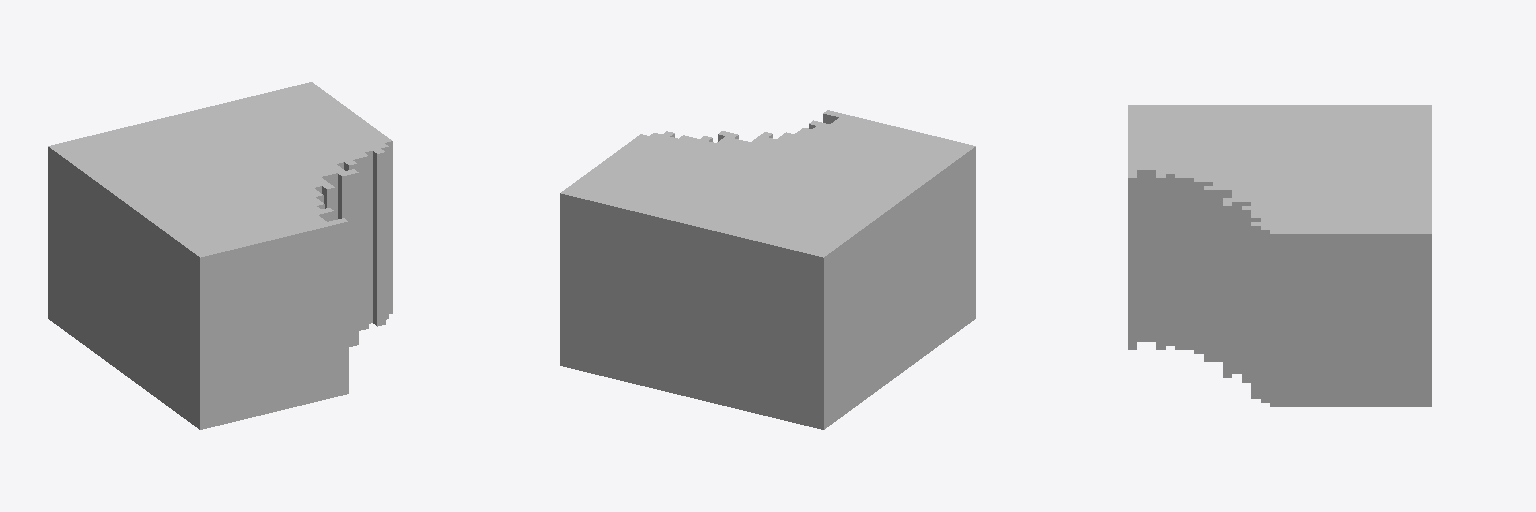
File: pondtile-6.obj
3 renders of one model, left to right at view 1: azimuth 30°, elevation 25°; view 2: azimuth 150°, elevation 25°; view 3: azimuth 270°, elevation 25°, orthographic.
Visible parts, largest first — view 1: pondtile-6; view 2: pondtile-6; view 3: pondtile-6.
Boxes of the visible parts, <box> form: pondtile-6: <box>48,82,392,429</box>; pondtile-6: <box>560,110,975,429</box>; pondtile-6: <box>1128,105,1431,406</box>.
Bounding box in the file's own units: 3.2 × 2 × 3.2.